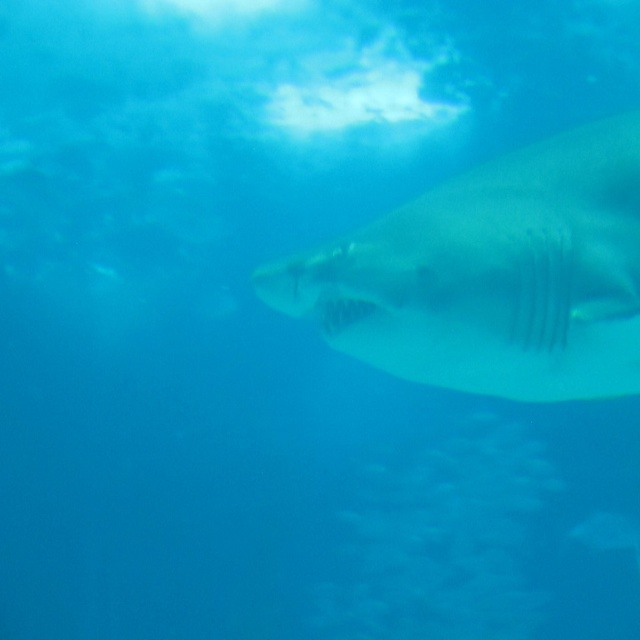Shark: (251, 109, 640, 403)
